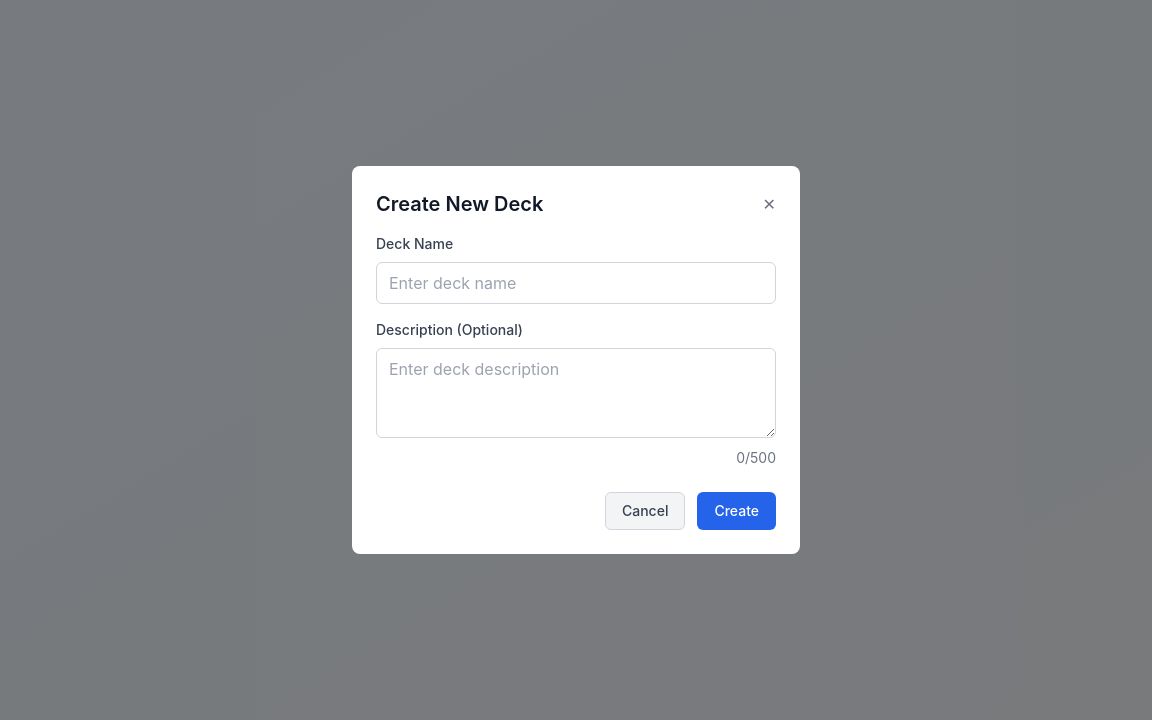
Scenario: CreateDeckModal - Duplicate Name Validation › should be case insensitive for duplicate check
In the field labelled "Deck Name": (576, 283) [376,262,776,304], type "EXISTING DECK"
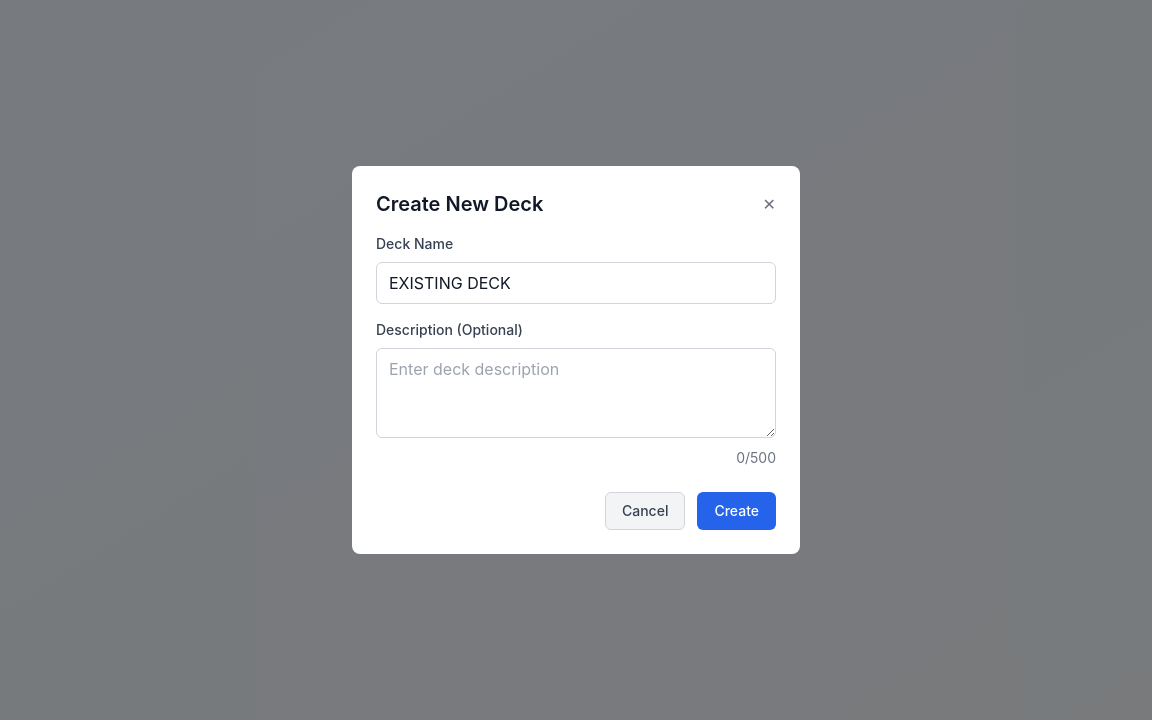
Leave the field labelled "Deck Name", box [376,262,776,304]
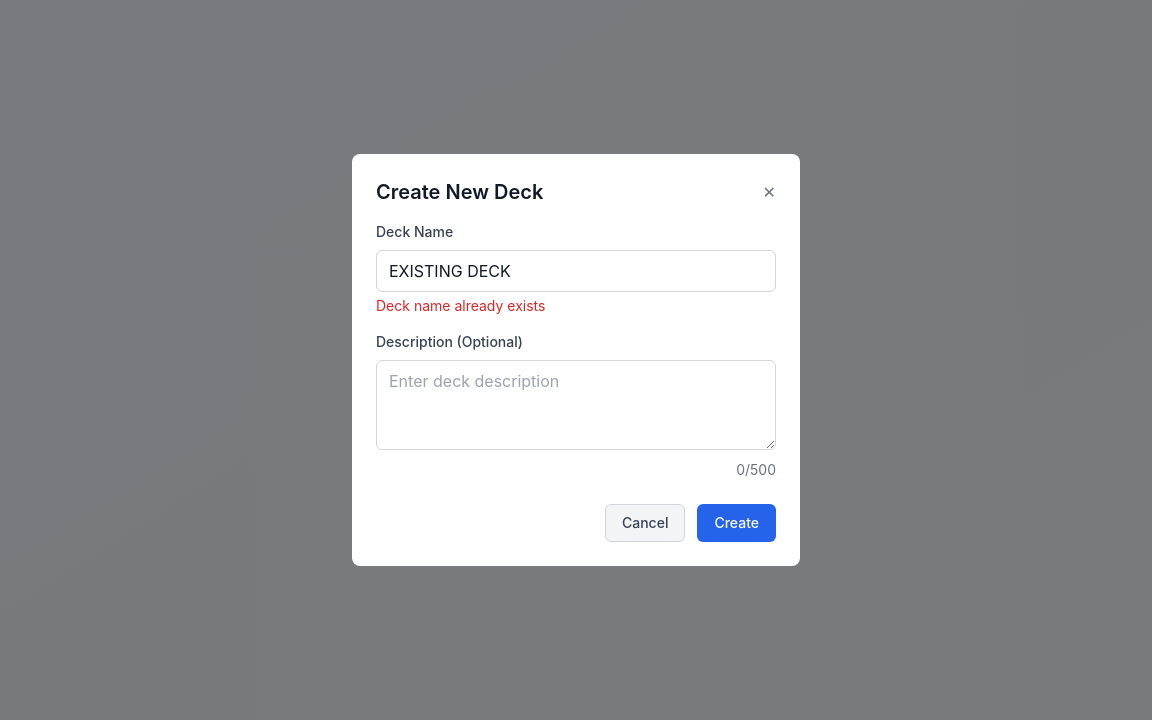
expect the text "Deck name already exists" is shown: met, box [376,297,545,314]
